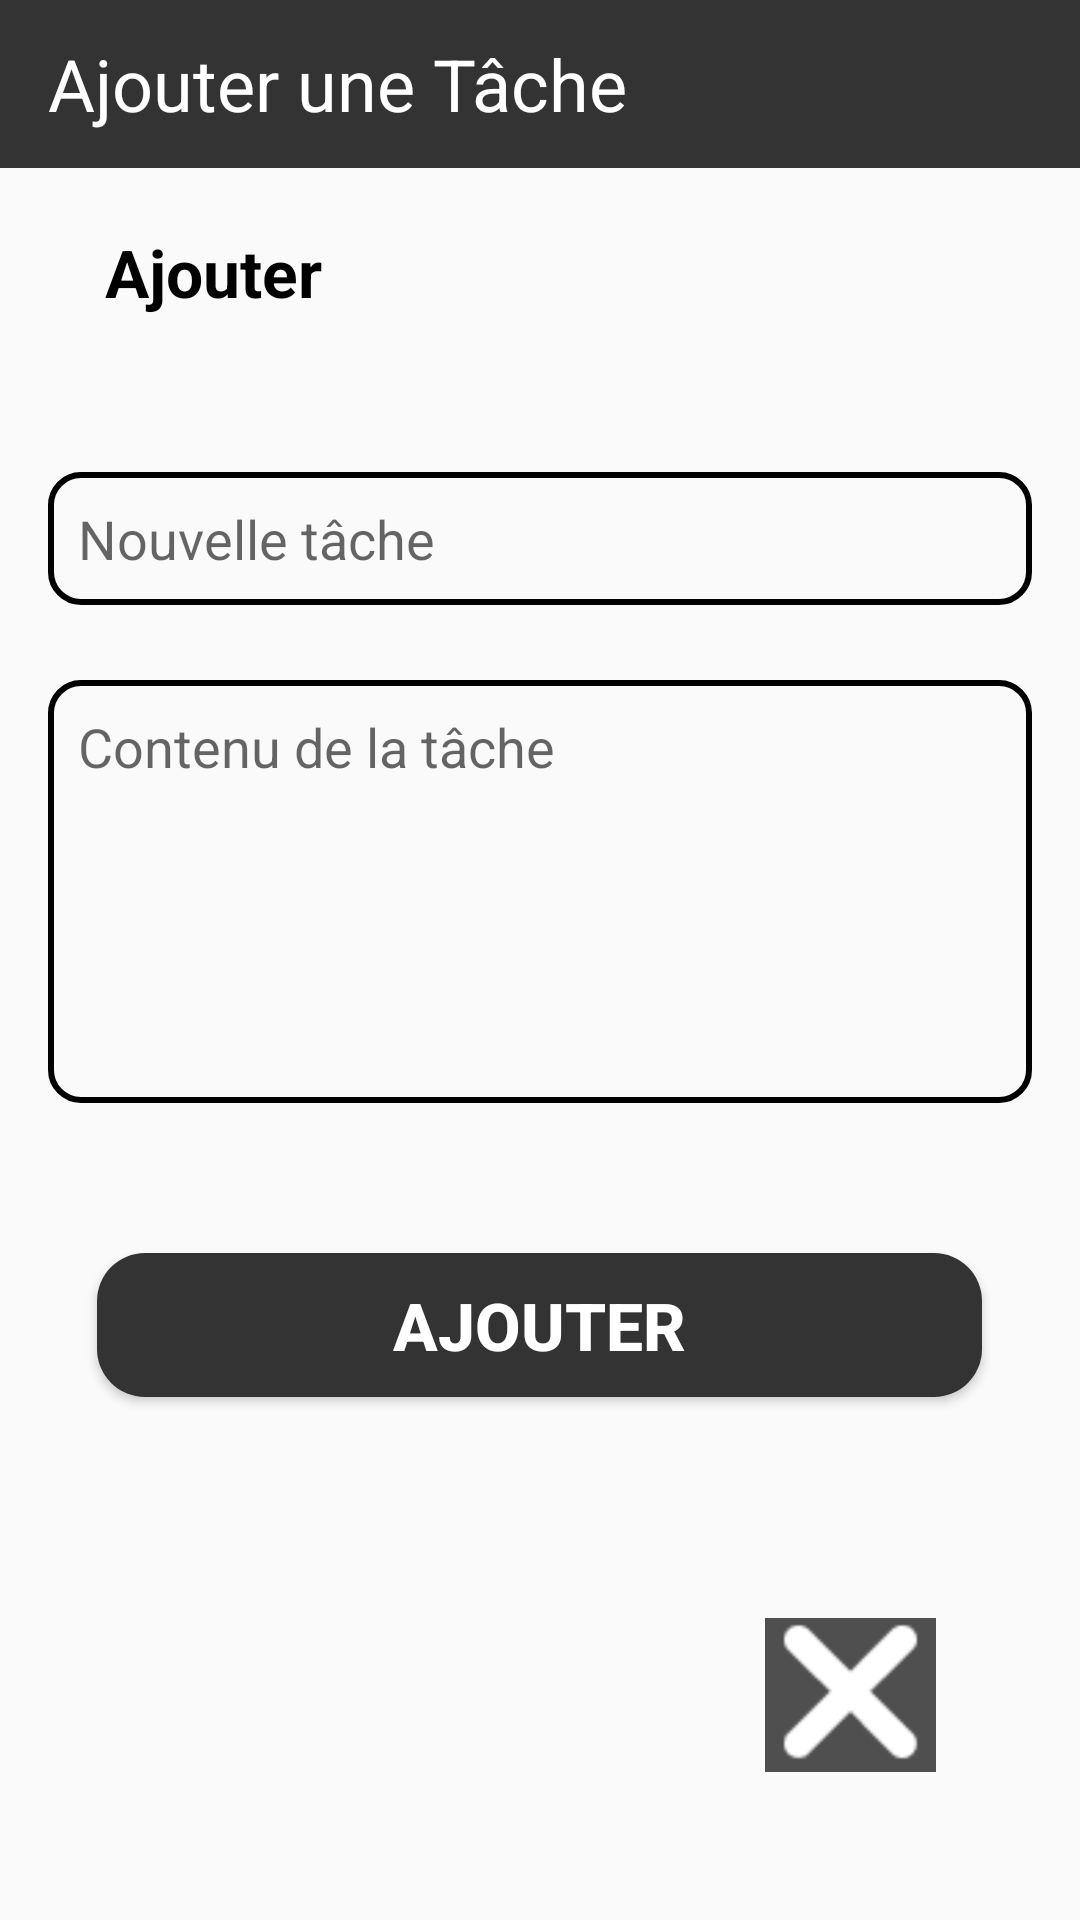

Where icons sit on this 1080x1920 app screen, as [left=x1, top=y1, right=x2, bottom=y2]:
croix: [left=765, top=1618, right=936, bottom=1772]
